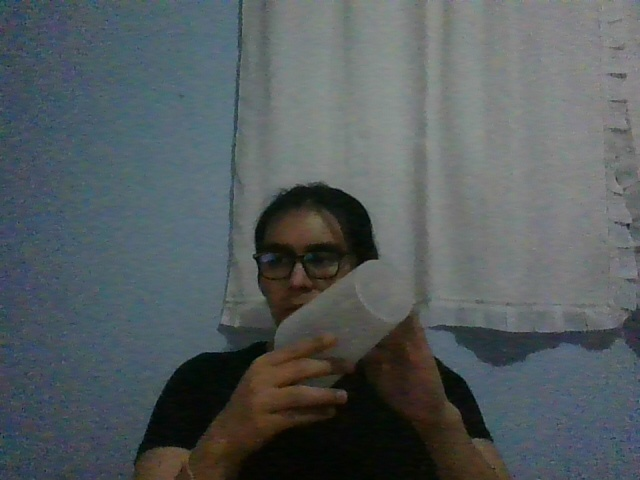vaso: (274, 259, 412, 388)
